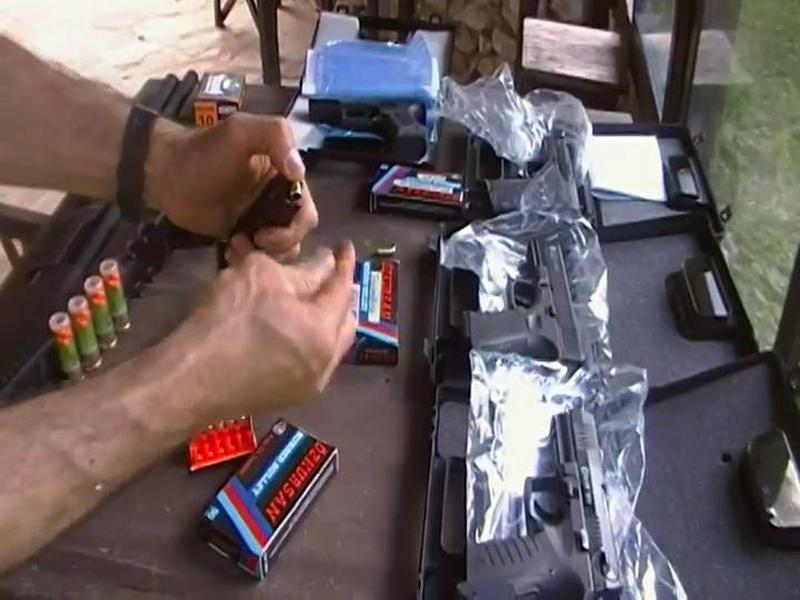Pistola: (426, 405, 656, 600), (446, 234, 595, 386)
